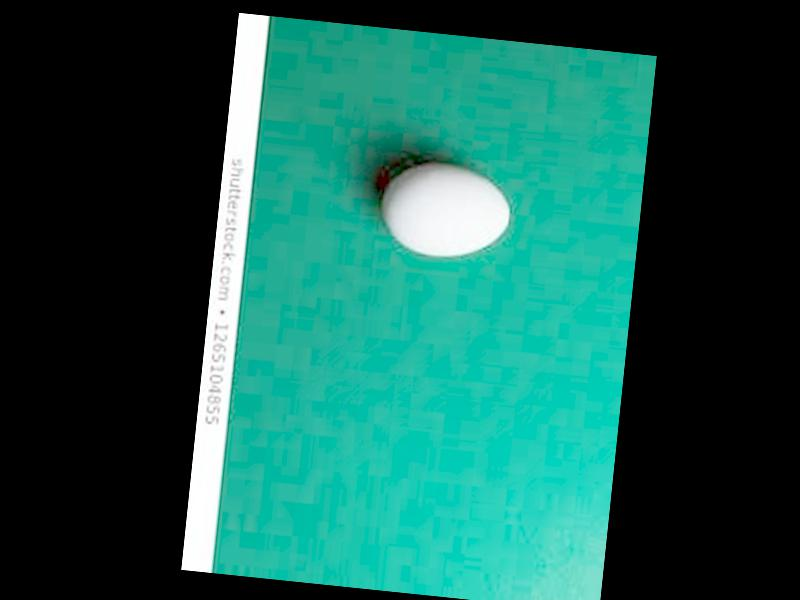Eggs: (377, 162, 512, 267)
